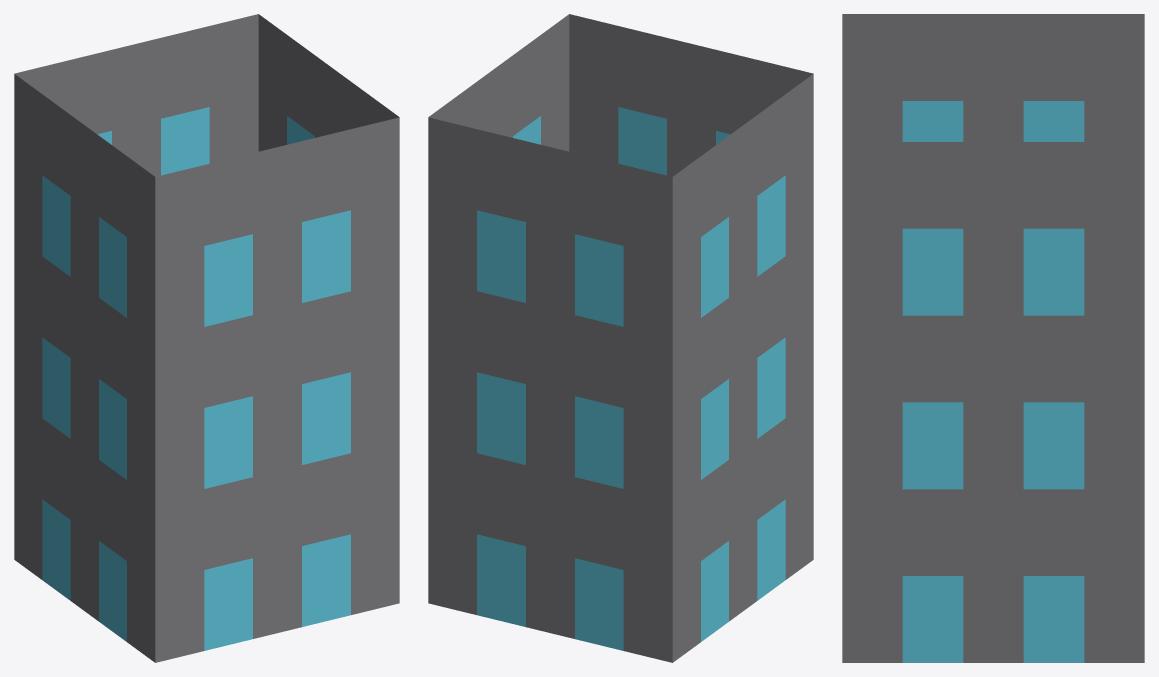
The model's file is GreyHouse.fbx.
3 renders of one model, left to right at view 1: azimuth 30°, elevation 25°; view 2: azimuth 150°, elevation 25°; view 3: azimuth 270°, elevation 25°, orthographic. The views are drawn at different scales.
Parts seen in each view (by area): view 1: House; view 2: House; view 3: House.
Boxes of the visible parts, x1=… form: House: x1=14, y1=14, x2=399, y2=662; House: x1=428, y1=14, x2=813, y2=662; House: x1=842, y1=14, x2=1144, y2=662.
Bounding box in the file's own units: 300 × 570 × 300.
